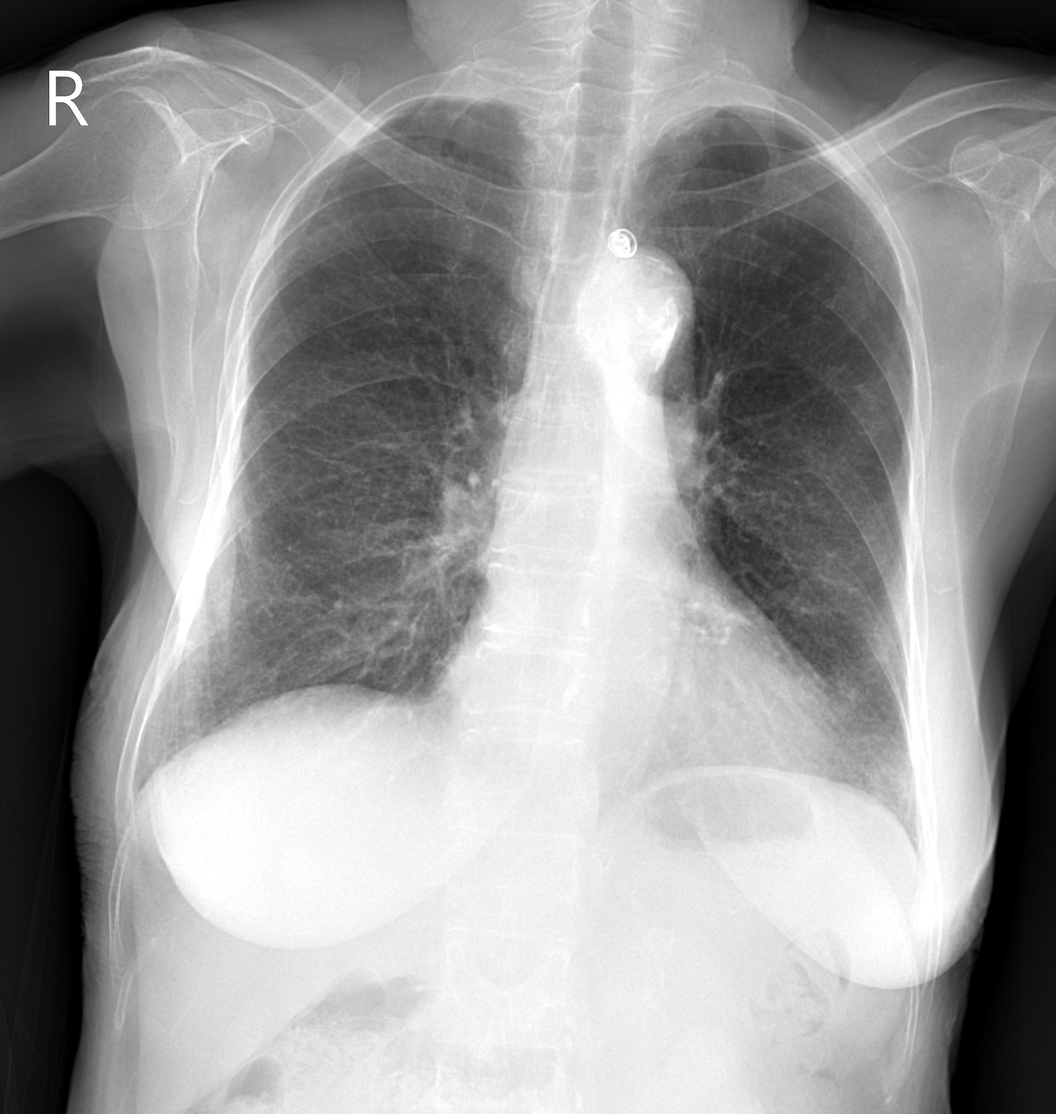Aortic enlargement: (588, 242, 699, 384)
Cardiomegaly: (431, 659, 846, 770)
Pleural thickening: (120, 778, 166, 813)
